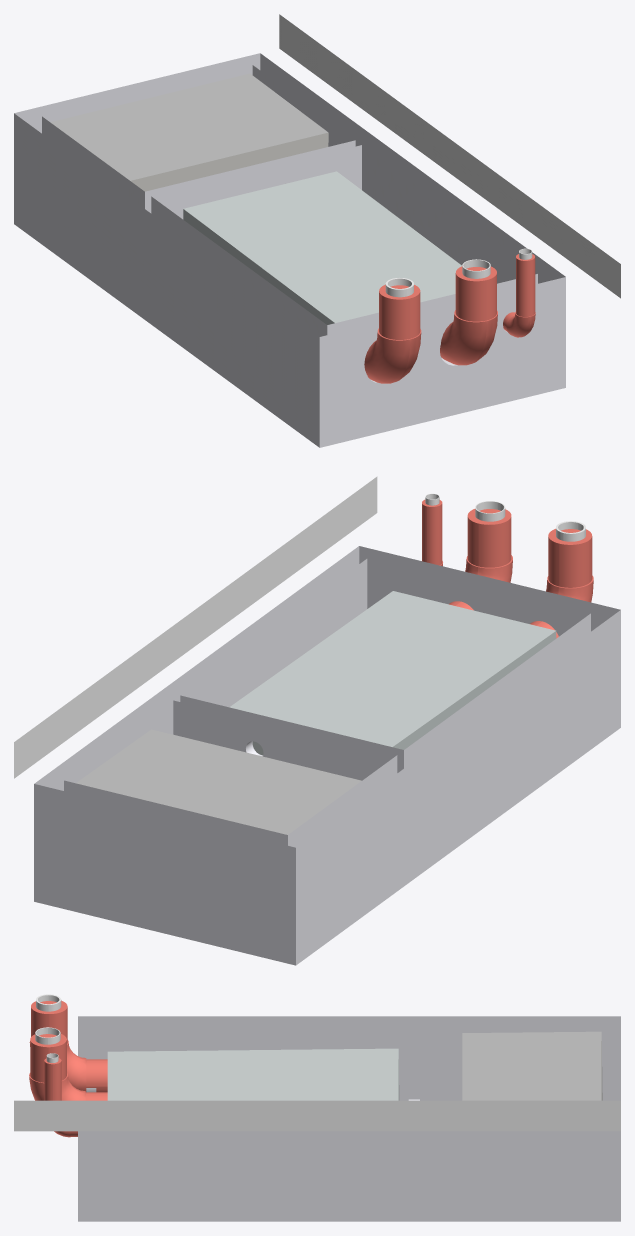
The picture shows the model from 3 angles, top to bottom: view 1: azimuth 30°, elevation 25°; view 2: azimuth 150°, elevation 25°; view 3: azimuth 270°, elevation 25°; orthographic projection. The views are drawn at different scales.
Visible parts, largest first — view 1: Group8, Group4, AC_UNIT_002_1, Model, Group6, Group7, ___________2606098_2_MEP2, ___________2606098_2_MEP3, Group5; view 2: Group8, Group4, AC_UNIT_002_1, Model, Group7, Group6, Group5; view 3: Group8, Model, Group4, AC_UNIT_002_1, Group7, Group6, Group5, ___________2606098_2_MEP3, ___________2606098_2_MEP2.
Part boxes in pixels (bbox=[...]): Group8: bbox=[14, 53, 565, 447]; Group4: bbox=[183, 171, 461, 357]; AC_UNIT_002_1: bbox=[50, 73, 328, 191]; Model: bbox=[279, 14, 620, 298]; Group6: bbox=[455, 259, 496, 321]; Group7: bbox=[379, 278, 420, 339]; ___________2606098_2_MEP2: bbox=[440, 310, 497, 365]; ___________2606098_2_MEP3: bbox=[364, 328, 421, 383]; Group5: bbox=[503, 248, 535, 331]; Group8: bbox=[34, 546, 620, 965]; Group4: bbox=[229, 591, 556, 755]; AC_UNIT_002_1: bbox=[76, 729, 361, 834]; Model: bbox=[14, 476, 377, 778]; Group7: bbox=[530, 521, 592, 638]; Group6: bbox=[449, 501, 511, 610]; Group5: bbox=[422, 493, 442, 565]; Group8: bbox=[78, 1016, 620, 1221]; Model: bbox=[14, 1100, 620, 1131]; Group4: bbox=[107, 1048, 399, 1100]; AC_UNIT_002_1: bbox=[462, 1031, 602, 1100]; Group7: bbox=[31, 994, 107, 1092]; Group6: bbox=[30, 1027, 107, 1100]; Group5: bbox=[44, 1053, 77, 1136]; ___________2606098_2_MEP3: bbox=[29, 1040, 86, 1091]; ___________2606098_2_MEP2: bbox=[29, 1073, 85, 1100].
Bounding box in the file's own units: 1.19 × 0.6897 × 2.66.
